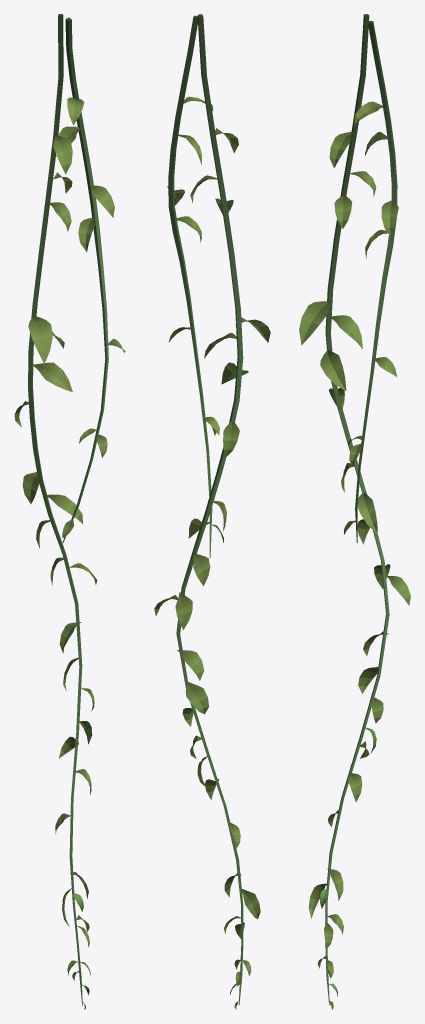
The model's file is Jungle_LeafyVines_C.fbx.
3 renders of one model, left to right at view 1: azimuth 30°, elevation 25°; view 2: azimuth 150°, elevation 25°; view 3: azimuth 330°, elevation 25°, orthographic. The views are drawn at different scales.
Visible parts, largest first — view 1: Jungle_LeafyVines_C; view 2: Jungle_LeafyVines_C; view 3: Jungle_LeafyVines_C.
Boxes of the visible parts, bbox=[...] form: Jungle_LeafyVines_C: bbox=[14, 14, 125, 1009]; Jungle_LeafyVines_C: bbox=[154, 14, 270, 1009]; Jungle_LeafyVines_C: bbox=[299, 14, 410, 1009].
Bounding box in the file's own units: 0.9712 × 9.61 × 0.8923.
